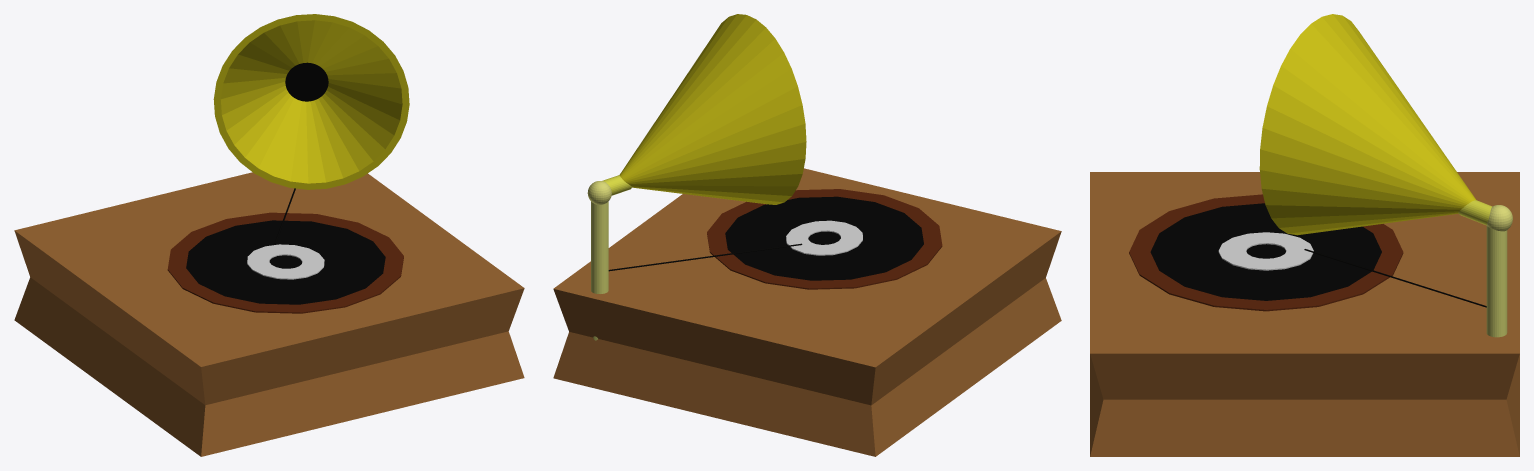
File: Gramofone.fbx
3 renders of one model, left to right at view 1: azimuth 30°, elevation 25°; view 2: azimuth 150°, elevation 25°; view 3: azimuth 270°, elevation 25°, orthographic. The views are drawn at different scales.
Visible parts, largest first — view 1: Cube, Cone, Circle; view 2: Cube, Cone, Circle, Cylinder; view 3: Cube, Cone, Circle, Cylinder, Sphere, Cylinder.001.
Part boxes in pixels (x1,y1,x2,y2): Cube: (14,172,524,456); Cone: (213,14,409,189); Circle: (167,212,403,313); Cube: (553,168,1061,456); Cone: (619,14,806,204); Circle: (707,189,942,289); Cylinder: (591,201,608,340); Cube: (1090,172,1519,456); Cone: (1259,14,1475,235); Circle: (1129,194,1403,311); Cylinder: (1486,226,1507,337); Sphere: (1486,205,1512,231); Cylinder.001: (1458,200,1491,225).
Bounding box in the file's own units: 180 × 171 × 180.
